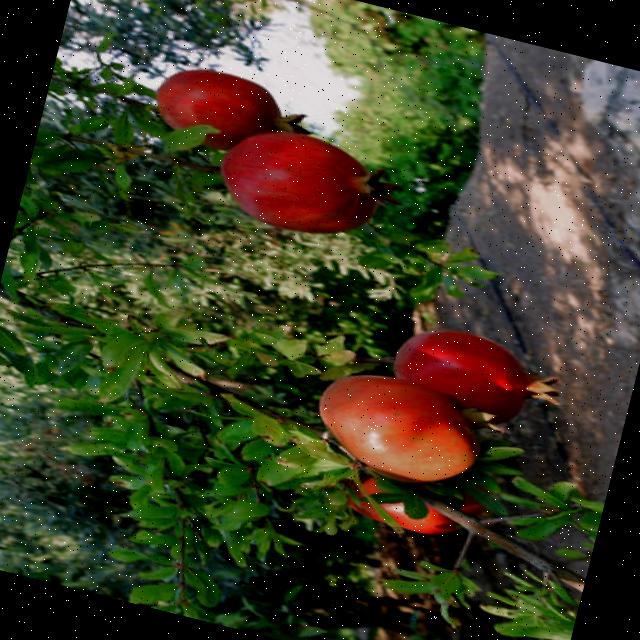Ripe: (300, 358, 508, 502), (208, 115, 414, 258), (381, 312, 575, 419), (143, 56, 310, 170)
